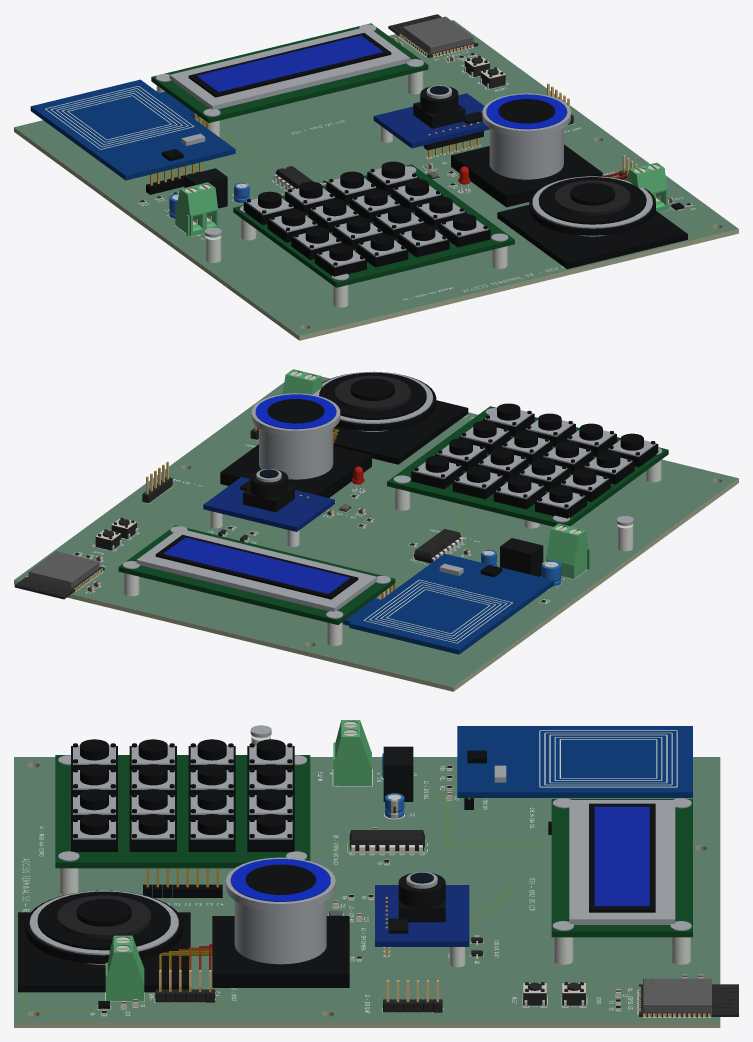
Rendered from terminal-web.glb.
The picture shows the model from 3 angles, top to bottom: view 1: azimuth 30°, elevation 25°; view 2: azimuth 150°, elevation 25°; view 3: azimuth 270°, elevation 25°; orthographic projection. The views are drawn at different scales.
Parts seen in each view (by area): view 1: =>[0:1:1:323], =>[0:1:1:325], RC522_Blue_Mounted_B (Shell) (×3), RECOM_R7833_1A (Shell) (×2), LCD1602_I2C_Mounted_B (Shell) (×2), =>[0:1:1:127], =>[0:1:1:3], ArducamMini2MPPlus (Shell), =>[0:1:1:11], Speaker40_Retained_Wired_B (Shell), R503_Retained_Harness_C (Shell), =>[0:1:1:322]; view 2: =>[0:1:1:323], =>[0:1:1:325], RC522_Blue_Mounted_B (Shell) (×3), RECOM_R7833_1A (Shell) (×2), LCD1602_I2C_Mounted_B (Shell) (×2), =>[0:1:1:11], ArducamMini2MPPlus (Shell), =>[0:1:1:3], =>[0:1:1:127], Speaker40_Retained_Wired_B (Shell), R503_Retained_Harness_C (Shell), =>[0:1:1:144]; view 3: =>[0:1:1:323], =>[0:1:1:325], RC522_Blue_Mounted_B (Shell) (×4), RECOM_R7833_1A (Shell) (×2), LCD1602_I2C_Mounted_B (Shell) (×2), =>[0:1:1:11], =>[0:1:1:3], =>[0:1:1:127], ArducamMini2MPPlus (Shell), Speaker40_Retained_Wired_B (Shell), =>[0:1:1:322], R503_Retained_Harness_C (Shell) (+2 smaller).
Boxes of the visible parts, left/top/right/bottom form: =>[0:1:1:323]: left=14, top=20, right=738, bottom=340; =>[0:1:1:325]: left=14, top=21, right=738, bottom=340; RC522_Blue_Mounted_B (Shell) (×3): left=30, top=33, right=687, bottom=307; RECOM_R7833_1A (Shell) (×2): left=156, top=24, right=684, bottom=280; LCD1602_I2C_Mounted_B (Shell) (×2): left=151, top=23, right=514, bottom=287; =>[0:1:1:127]: left=175, top=162, right=667, bottom=236; =>[0:1:1:3]: left=388, top=14, right=637, bottom=179; ArducamMini2MPPlus (Shell): left=373, top=93, right=489, bottom=148; =>[0:1:1:11]: left=139, top=37, right=691, bottom=224; Speaker40_Retained_Wired_B (Shell): left=554, top=180, right=630, bottom=215; R503_Retained_Harness_C (Shell): left=486, top=94, right=567, bottom=129; =>[0:1:1:322]: left=141, top=51, right=695, bottom=300; =>[0:1:1:323]: left=14, top=376, right=738, bottom=691; =>[0:1:1:325]: left=14, top=377, right=738, bottom=691; RC522_Blue_Mounted_B (Shell) (×3): left=123, top=371, right=661, bottom=654; RECOM_R7833_1A (Shell) (×2): left=123, top=372, right=661, bottom=618; LCD1602_I2C_Mounted_B (Shell) (×2): left=118, top=406, right=668, bottom=624; =>[0:1:1:11]: left=74, top=371, right=581, bottom=603; ArducamMini2MPPlus (Shell): left=203, top=477, right=334, bottom=531; =>[0:1:1:3]: left=14, top=425, right=351, bottom=599; =>[0:1:1:127]: left=282, top=369, right=590, bottom=578; Speaker40_Retained_Wired_B (Shell): left=334, top=375, right=410, bottom=410; R503_Retained_Harness_C (Shell): left=255, top=394, right=336, bottom=429; =>[0:1:1:144]: left=481, top=550, right=561, bottom=586; =>[0:1:1:323]: left=14, top=757, right=720, bottom=1027; =>[0:1:1:325]: left=14, top=757, right=720, bottom=1027; RC522_Blue_Mounted_B (Shell) (×4): left=18, top=726, right=692, bottom=992; RECOM_R7833_1A (Shell) (×2): left=29, top=725, right=691, bottom=1009; LCD1602_I2C_Mounted_B (Shell) (×2): left=55, top=755, right=692, bottom=937; =>[0:1:1:11]: left=102, top=722, right=703, bottom=1015; =>[0:1:1:3]: left=159, top=911, right=738, bottom=1016; =>[0:1:1:127]: left=105, top=720, right=371, bottom=1001; ArducamMini2MPPlus (Shell): left=375, top=885, right=469, bottom=946; Speaker40_Retained_Wired_B (Shell): left=57, top=895, right=151, bottom=939; =>[0:1:1:322]: left=22, top=766, right=632, bottom=1015; R503_Retained_Harness_C (Shell): left=230, top=859, right=330, bottom=901.
Size of the model in its own units: 0.16 by 0.0259 by 0.1848.
